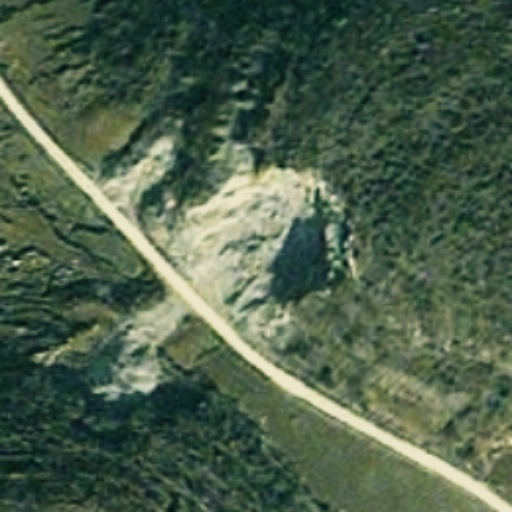landslide: (105, 140, 343, 288), (99, 295, 187, 397)
